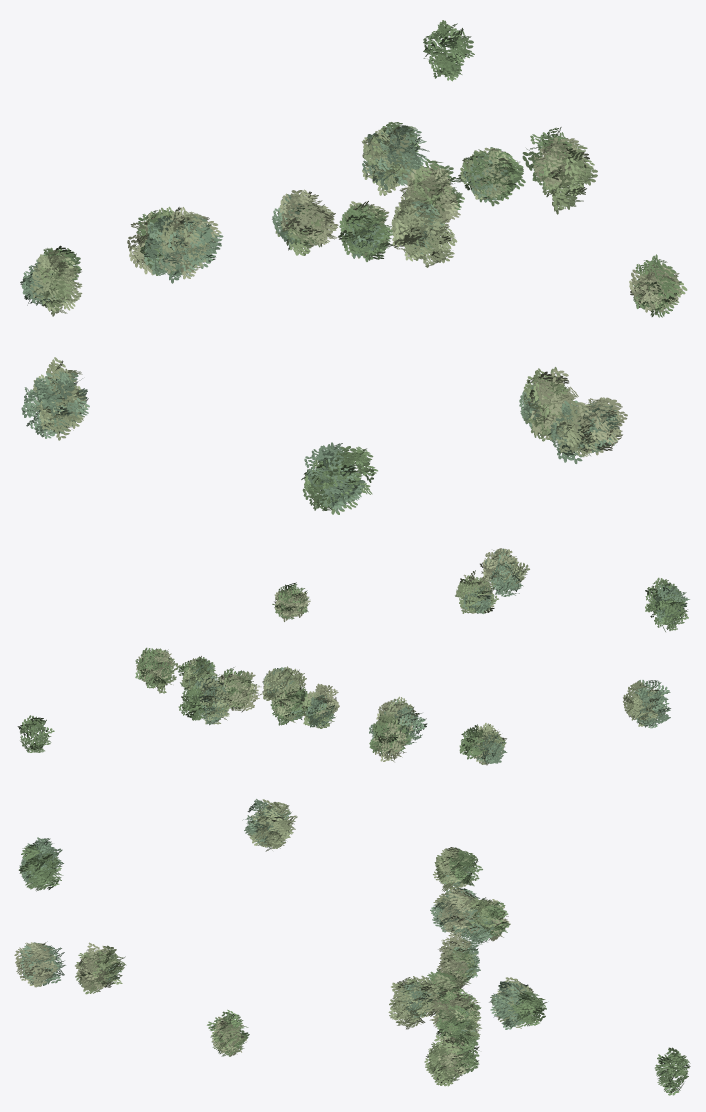
File: campus-tree--1_-1-middle.glb
3 renders of one model, top to bottom at view 1: azimuth 30°, elevation 25°; view 2: azimuth 150°, elevation 25°; view 3: azimuth 270°, elevation 25°, orthographic. The views are drawn at different scales.
Parts seen in each view (by area): view 1: Campus leaf canopy; view 2: Campus leaf canopy; view 3: Campus leaf canopy.
Boxes of the visible parts, x1,y1,x2,y2 form: Campus leaf canopy: (20, 20, 687, 514); Campus leaf canopy: (17, 548, 689, 765); Campus leaf canopy: (14, 799, 690, 1095).
Size of the model in its own units: 64.01 by 8.22 by 69.92.
1 material, 1 textured.
